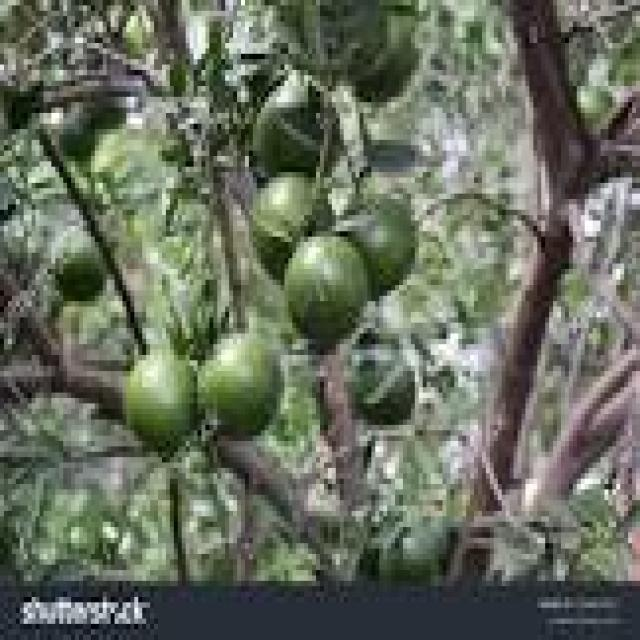orange: (284, 231, 367, 344), (198, 328, 280, 436), (249, 172, 332, 274), (253, 75, 336, 172), (122, 350, 194, 452), (344, 194, 415, 296), (51, 226, 103, 296)
